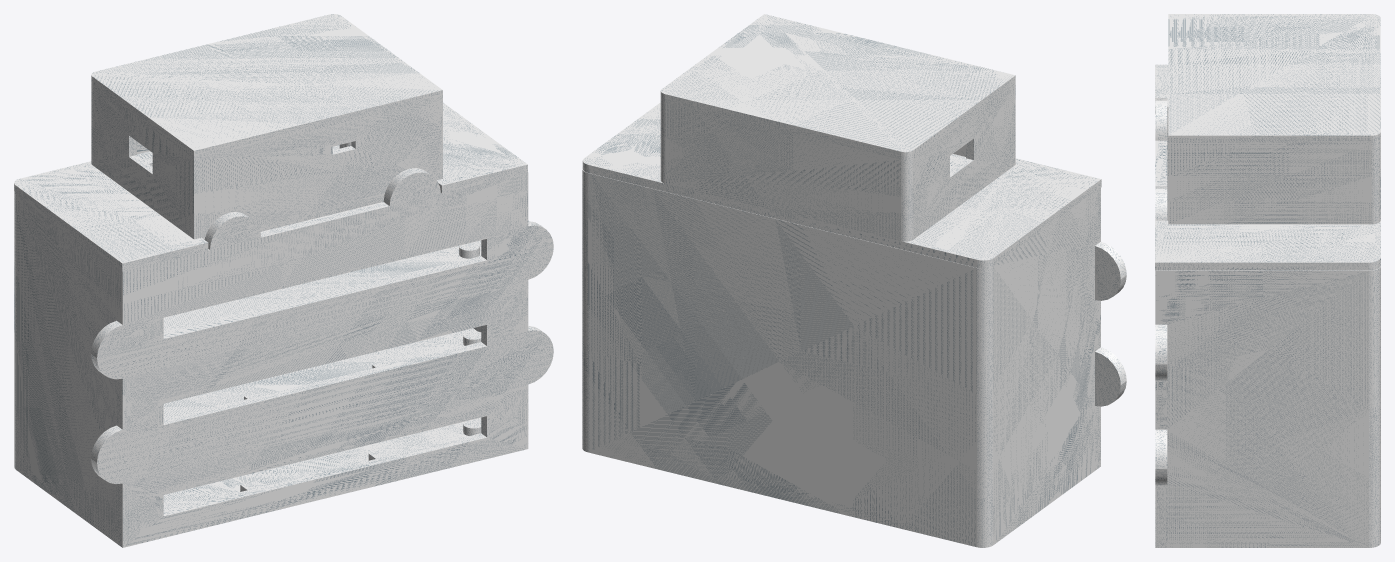
The model's file is FullControlKit v2.dae.
3 views of the same model, side by side, from view 1: azimuth 30°, elevation 25°; view 2: azimuth 150°, elevation 25°; view 3: azimuth 270°, elevation 25° (orthographic).
Parts seen in each view (by area): view 1: group_0 (×2), group_4, group_3, group_2, group_1; view 2: group_0, group_4, group_3; view 3: group_0, group_4, group_3.
Part boxes in pixels (x1=…): group_0 (×2): x1=14, y1=168, x2=553, y2=547; group_4: x1=14, y1=83, x2=527, y2=271; group_3: x1=91, y1=14, x2=442, y2=158; group_2: x1=163, y1=240, x2=481, y2=333; group_1: x1=163, y1=328, x2=476, y2=419; group_0: x1=582, y1=168, x2=1126, y2=547; group_4: x1=582, y1=84, x2=1101, y2=268; group_3: x1=660, y1=14, x2=1015, y2=160; group_0: x1=1155, y1=77, x2=1380, y2=547; group_4: x1=1155, y1=64, x2=1380, y2=270; group_3: x1=1168, y1=14, x2=1380, y2=143.
Bounding box in the file's own units: 7.01 × 3 × 5.47.
